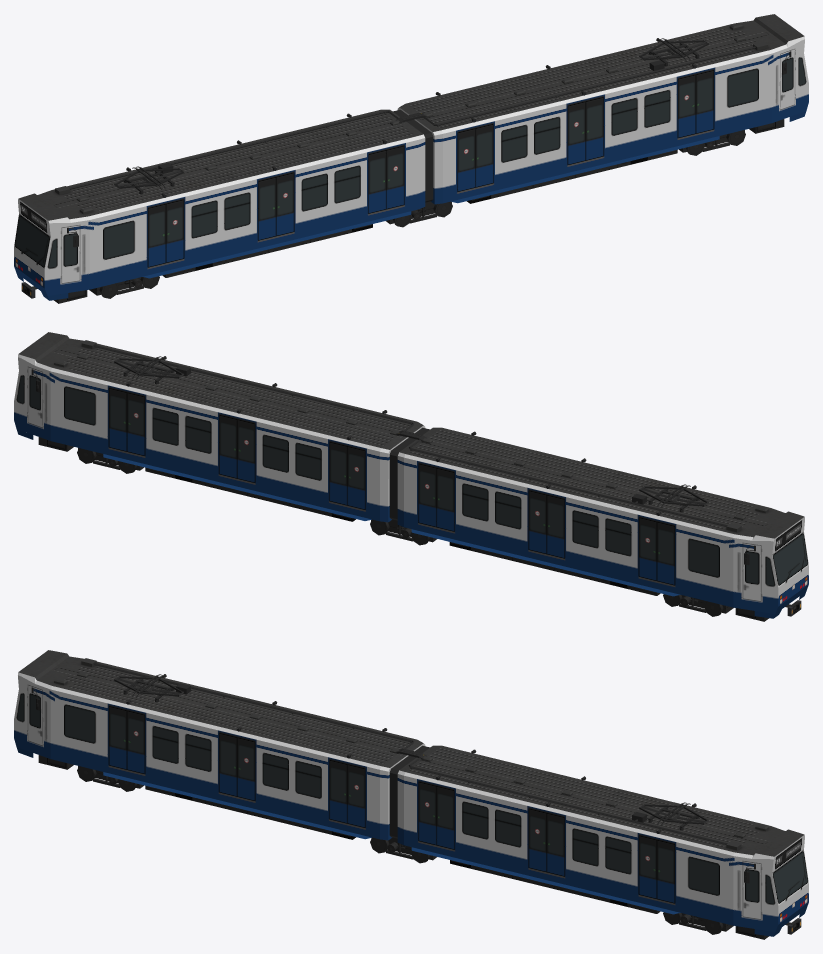
The model's file is gvb-metro-51-runtime.glb.
The picture shows the model from 3 angles, top to bottom: view 1: azimuth 30°, elevation 25°; view 2: azimuth 150°, elevation 25°; view 3: azimuth 330°, elevation 25°; orthographic projection.
Bounding box in the file's own units: 6.04 × 0.765 × 0.6261.
2 materials, 2 textured.
